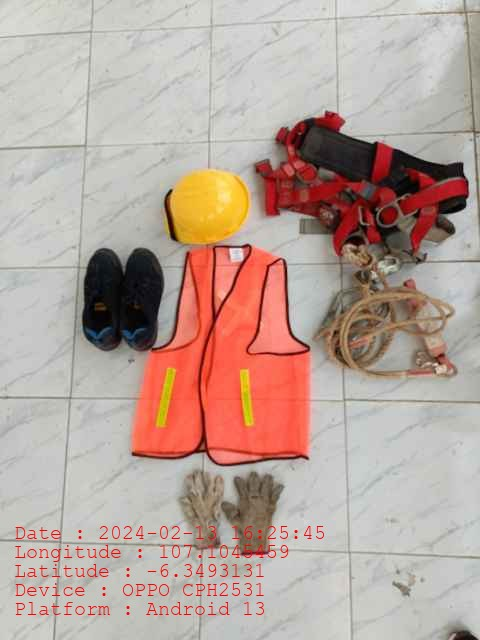HELM: (162, 169, 250, 245)
ROMPI: (162, 250, 301, 467)
SEPATU: (81, 248, 165, 353)
TAMBANG_SLING: (318, 242, 457, 383)
